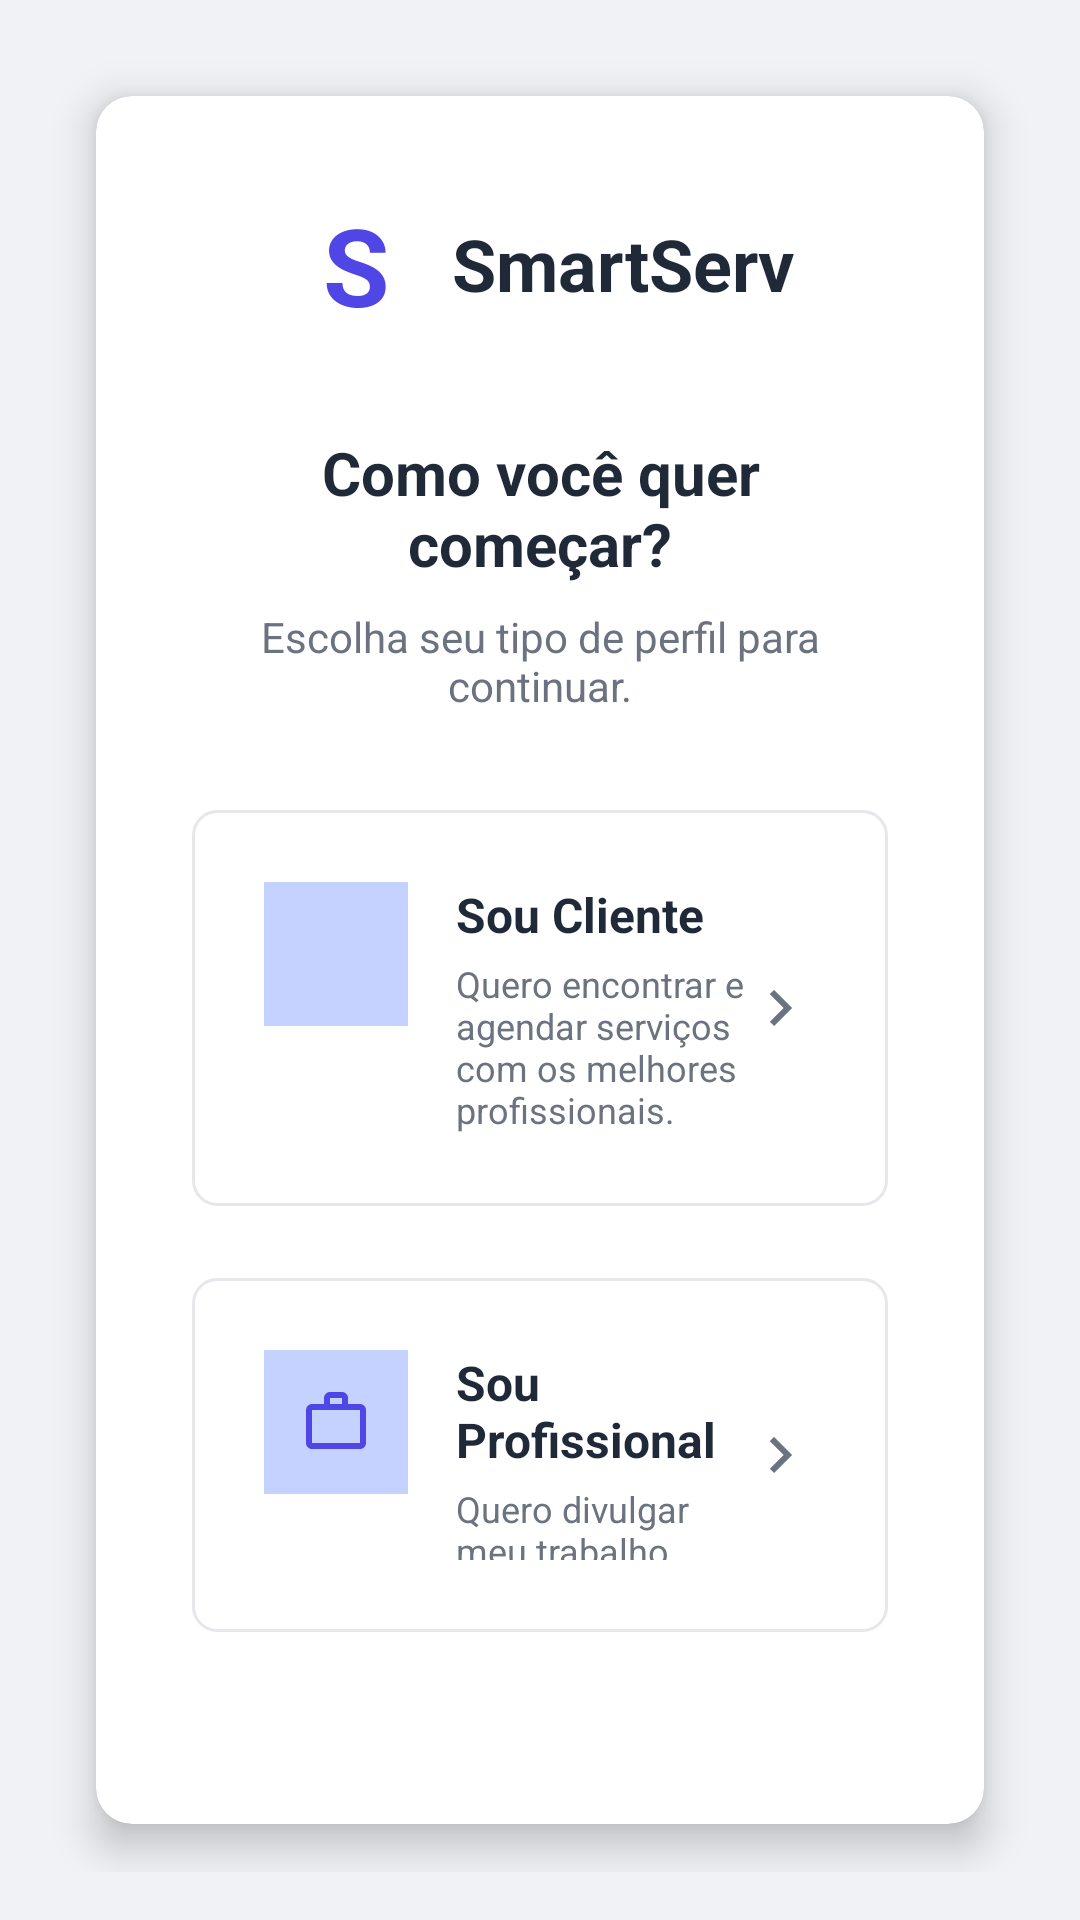

Icons on this 1080px x 1920px Android screen, each with its box as (x1, y1, x2, y2):
briefcase: (306, 1392, 366, 1449)
chevron right: (770, 990, 792, 1026), (770, 1437, 792, 1473)
